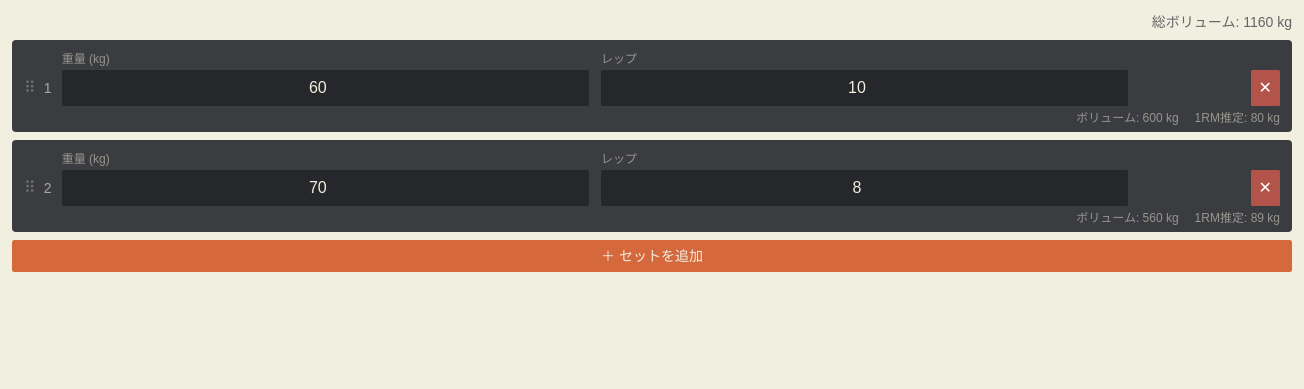
Test: ExerciseSetEditor フォーカス遷移（タップ手数の削減） › 最終セットの回数で Enter を押すと新規セットを作成し重量へフォーカスする
Click the 4th number field at coordinates (864, 188), box x1=601 y1=170 x2=1128 y2=206
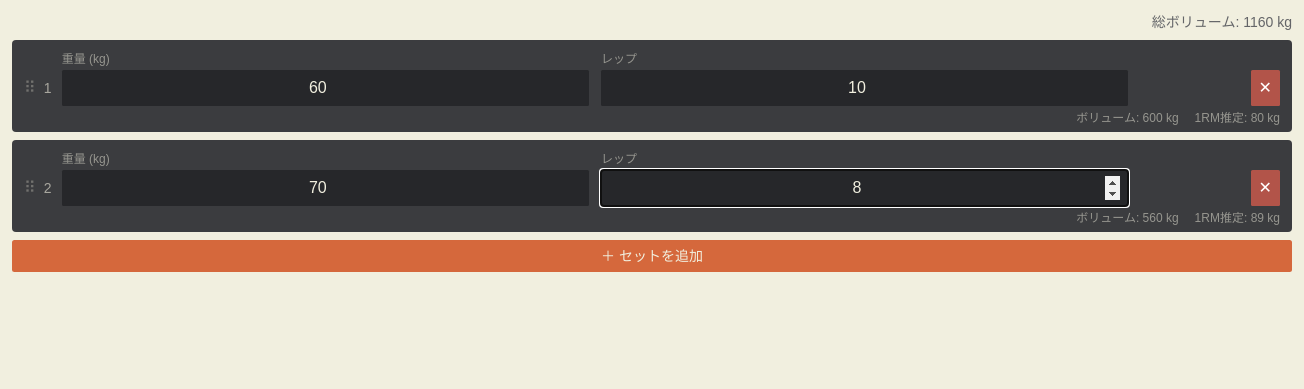
Press Enter
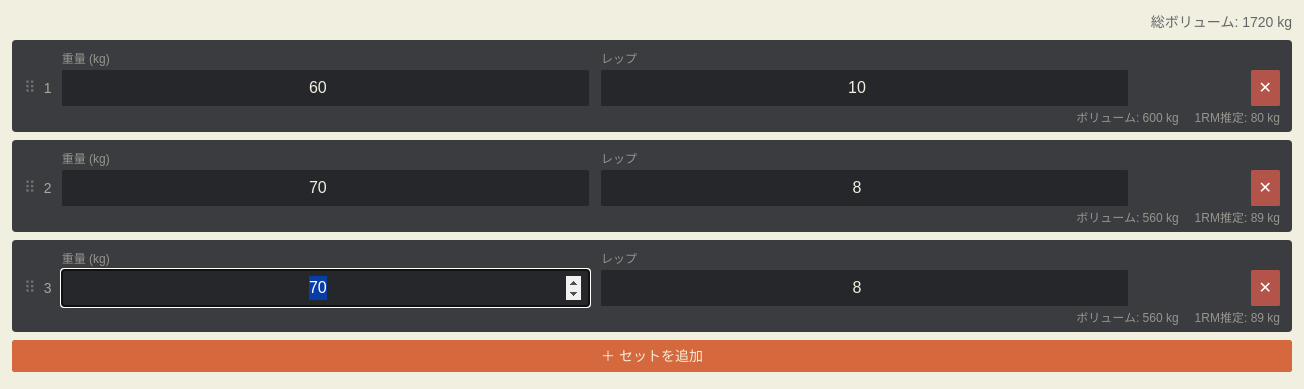
Expected: the number of number fields is 6, x1=62 y1=70 x2=589 y2=106; x1=601 y1=70 x2=1128 y2=106; x1=62 y1=170 x2=589 y2=206; x1=601 y1=170 x2=1128 y2=206; x1=62 y1=270 x2=589 y2=306; x1=601 y1=270 x2=1128 y2=306
